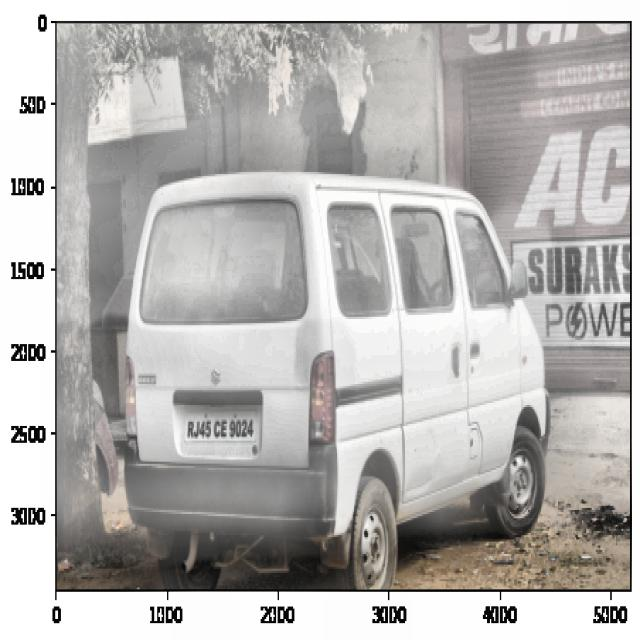license_plate: (182, 410, 258, 447)
